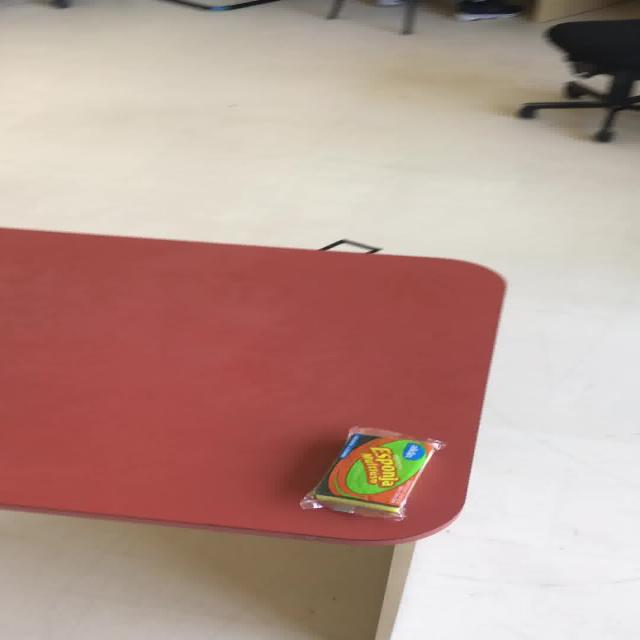sponge: (298, 425, 446, 519)
